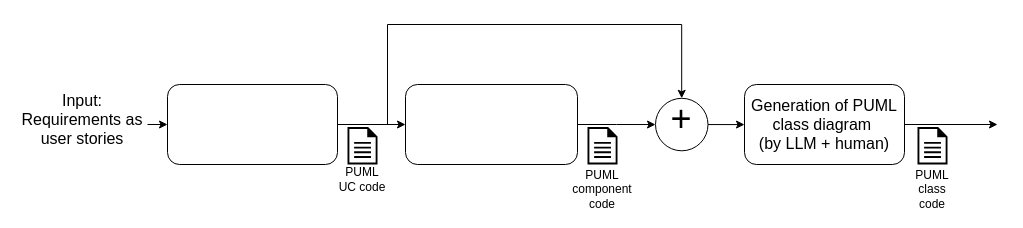
This 1023x228 diagram has some shape labels left out. Each missing label, with the centre of its shape:
"Generation of PUML component diagram (by LLM + human)" goes at point (491, 124).
"Generation of PUML UC diagram (by LLM + human)" goes at point (252, 124).
